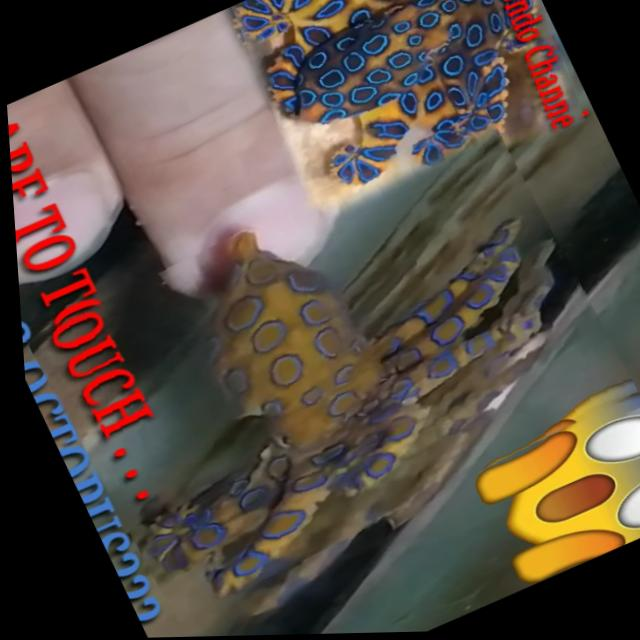blue_ringed_octopus: (6, 109, 640, 624), (220, 0, 598, 232)
